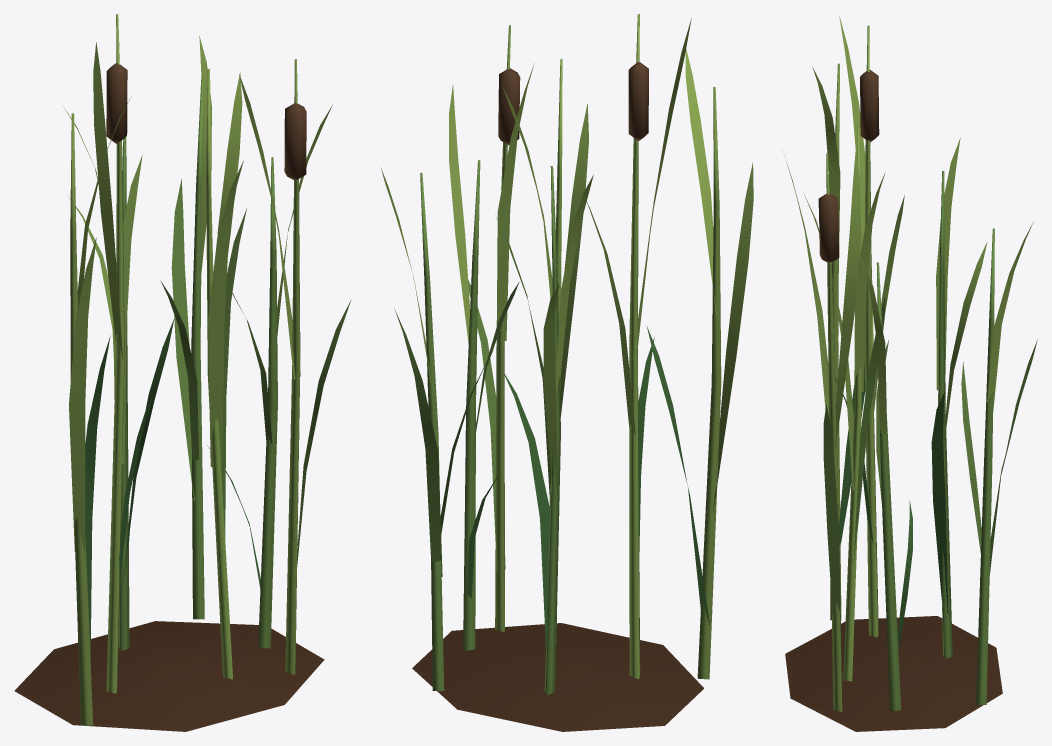
File: reeds_3.glb
The picture shows the model from 3 angles, left to right: view 1: azimuth 30°, elevation 25°; view 2: azimuth 150°, elevation 25°; view 3: azimuth 270°, elevation 25°; orthographic projection. The views are drawn at different scales.
Visible parts, largest first — view 1: reeds_3; view 2: reeds_3; view 3: reeds_3.
Boxes of the visible parts, x1,y1,x2,y2 form: reeds_3: (14, 14, 351, 731); reeds_3: (380, 14, 753, 731); reeds_3: (784, 16, 1037, 731).
Size of the model in its own units: 0.7 by 1.6 by 0.6.
Materials: 2 (2 with a texture image).
